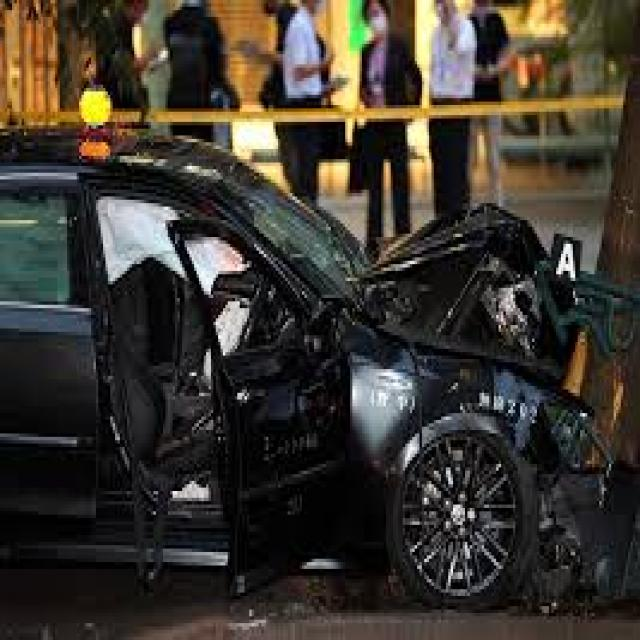accident: (5, 101, 640, 603)
